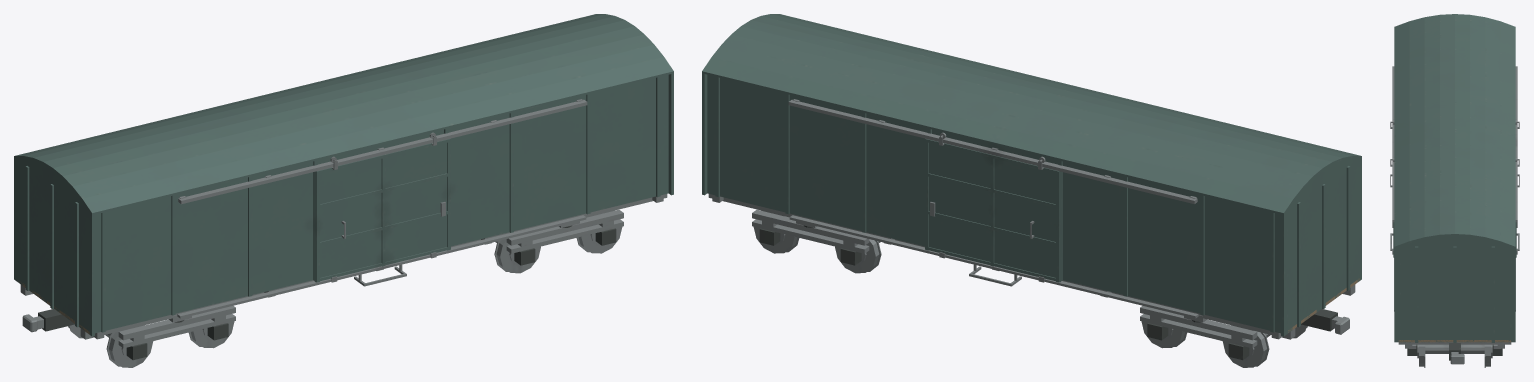
Rendered from rail_boxcar_shut.glb.
3 renders of one model, left to right at view 1: azimuth 30°, elevation 25°; view 2: azimuth 150°, elevation 25°; view 3: azimuth 270°, elevation 25°, orthographic. The views are drawn at different scales.
Visible parts, largest first — view 1: RailBoxcarShut; view 2: RailBoxcarShut; view 3: RailBoxcarShut.
Boxes of the visible parts, left/top/right/bottom form: RailBoxcarShut: left=14, top=14, right=673, bottom=367; RailBoxcarShut: left=702, top=14, right=1361, bottom=367; RailBoxcarShut: left=1390, top=14, right=1519, bottom=367.
Size of what is drawn, in the model's own units: 14 by 4.2 by 3.2.
1 material, 1 textured.
